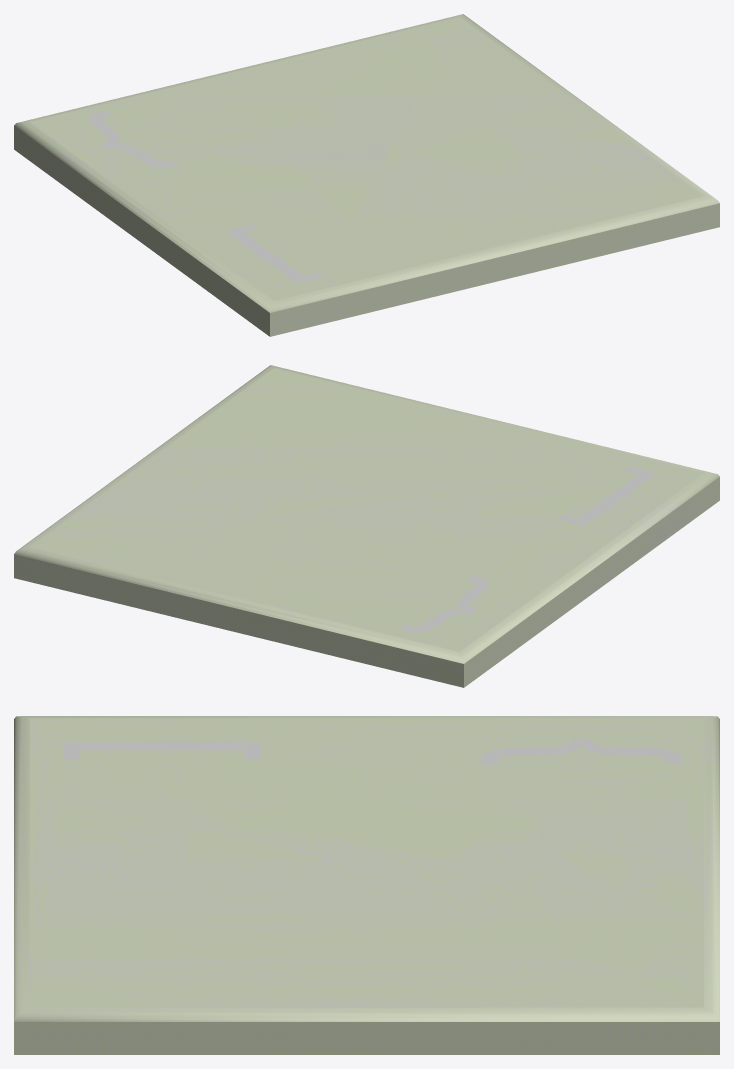
Rendered from original-56.obj.
3 renders of one model, top to bottom at view 1: azimuth 30°, elevation 25°; view 2: azimuth 150°, elevation 25°; view 3: azimuth 270°, elevation 25°, orthographic. The views are drawn at different scales.
Visible parts, largest first — view 1: mesh62/mesh62-geometry#mesh62-geometry; view 2: mesh62/mesh62-geometry#mesh62-geometry; view 3: mesh62/mesh62-geometry#mesh62-geometry.
Part boxes in pixels (<box>): mesh62/mesh62-geometry#mesh62-geometry: <box>14,14,719,336</box>; mesh62/mesh62-geometry#mesh62-geometry: <box>14,365,719,687</box>; mesh62/mesh62-geometry#mesh62-geometry: <box>14,716,719,1054</box>.
Size of the model in its own units: 0.0899 by 0.0056 by 0.0886.
